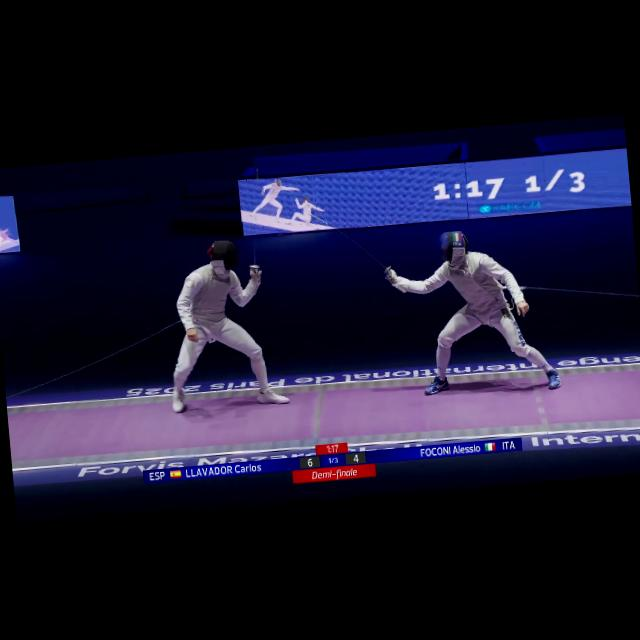blade: (305, 200, 396, 286), (236, 166, 272, 287)
